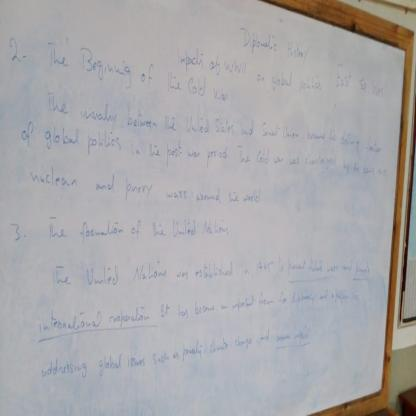Handwritten text: (38, 83, 389, 165), (16, 116, 394, 191), (31, 258, 352, 343), (29, 300, 315, 394), (37, 30, 234, 123), (26, 158, 267, 222), (46, 245, 254, 292), (169, 42, 331, 101), (43, 201, 232, 248), (273, 248, 375, 286), (236, 25, 313, 66), (333, 56, 355, 96)
